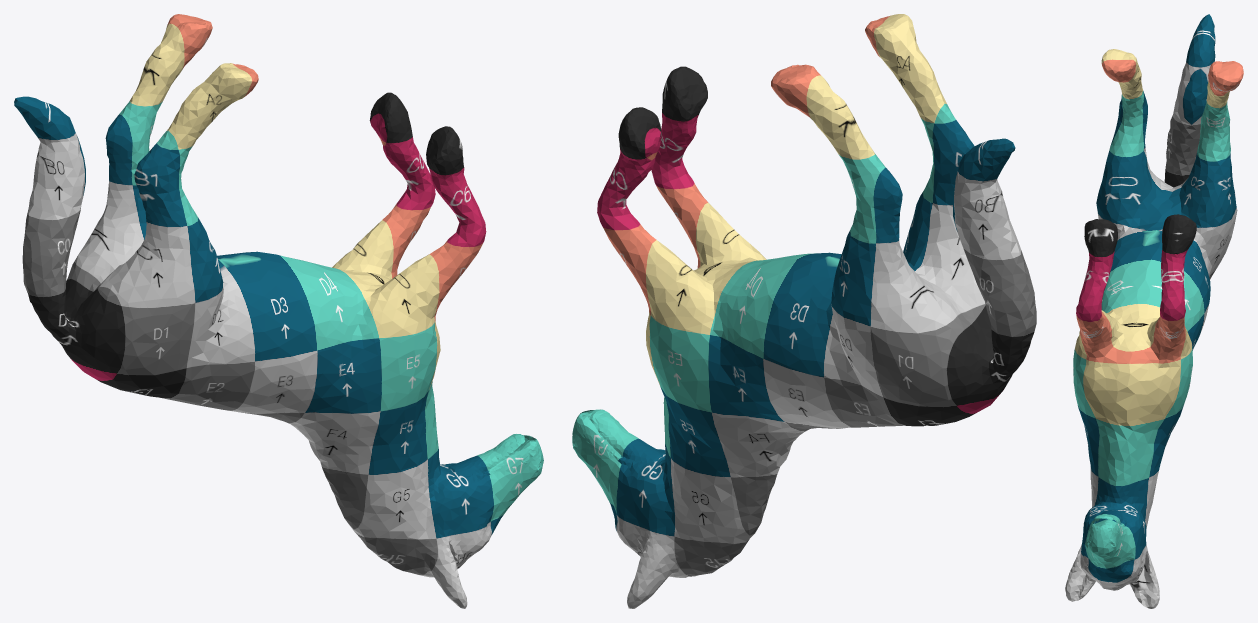
The model's file is horse_08-horse_08.obj.
The picture shows the model from 3 angles, left to right: view 1: azimuth 30°, elevation 25°; view 2: azimuth 150°, elevation 25°; view 3: azimuth 270°, elevation 25°; orthographic projection. The views are drawn at different scales.
Visible parts, largest first — view 1: horse_08-horse_08_export; view 2: horse_08-horse_08_export; view 3: horse_08-horse_08_export.
Boxes of the visible parts, x1,y1,x2,y2 form: horse_08-horse_08_export: (14, 14, 543, 608); horse_08-horse_08_export: (572, 14, 1036, 608); horse_08-horse_08_export: (1065, 14, 1243, 608).
Bounding box in the file's own units: 0.8288 × 0.9724 × 0.3354.
